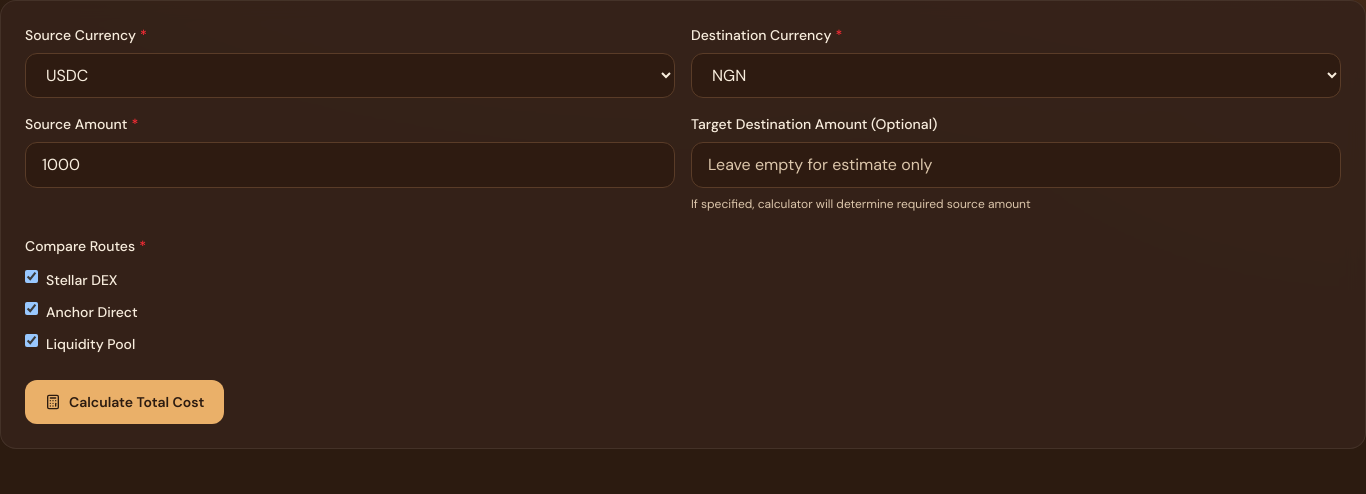
it: CostCalculator – canSubmit guard › disables submit when no routes are selected
Click the checkbox labelled "Stellar DEX". click: (32, 276)
box: [25,270,38,283]
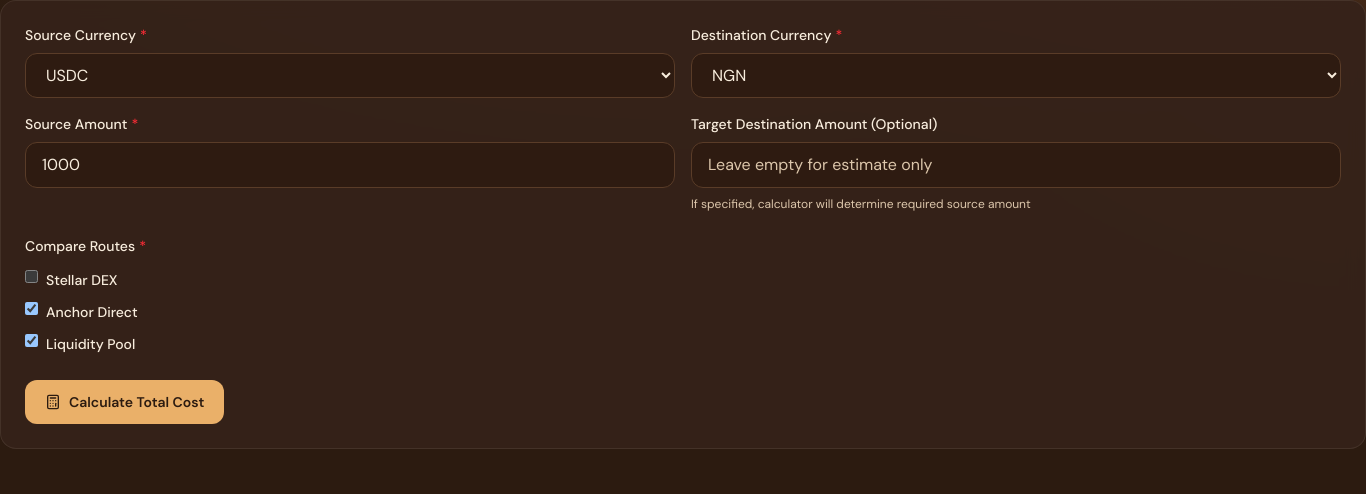
Click the checkbox labelled "Anchor Direct". click: (32, 308)
box: [25,302,38,315]
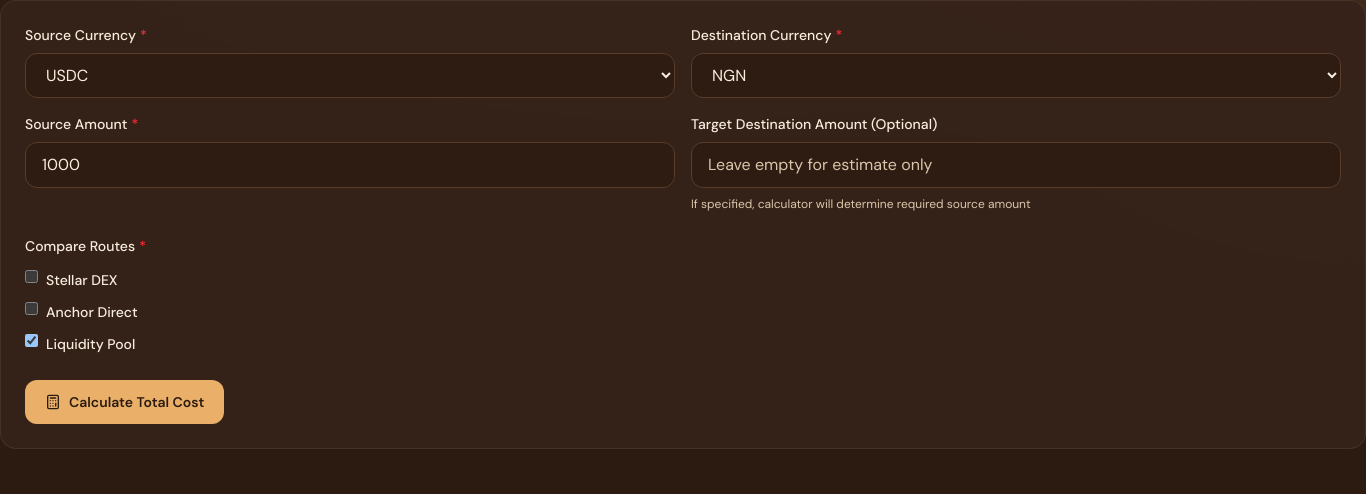
Click the checkbox labelled "Liquidity Pool". click: (32, 340)
box: [25,334,38,347]
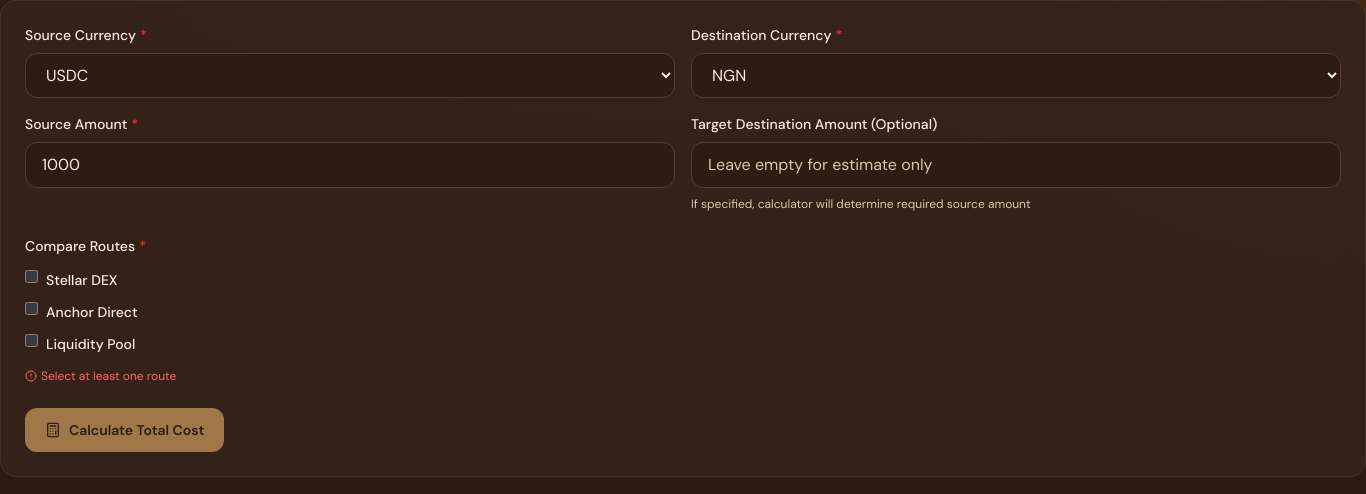
Expected: the button "Calculate Total Cost" is disabled, [25,408,224,452]
